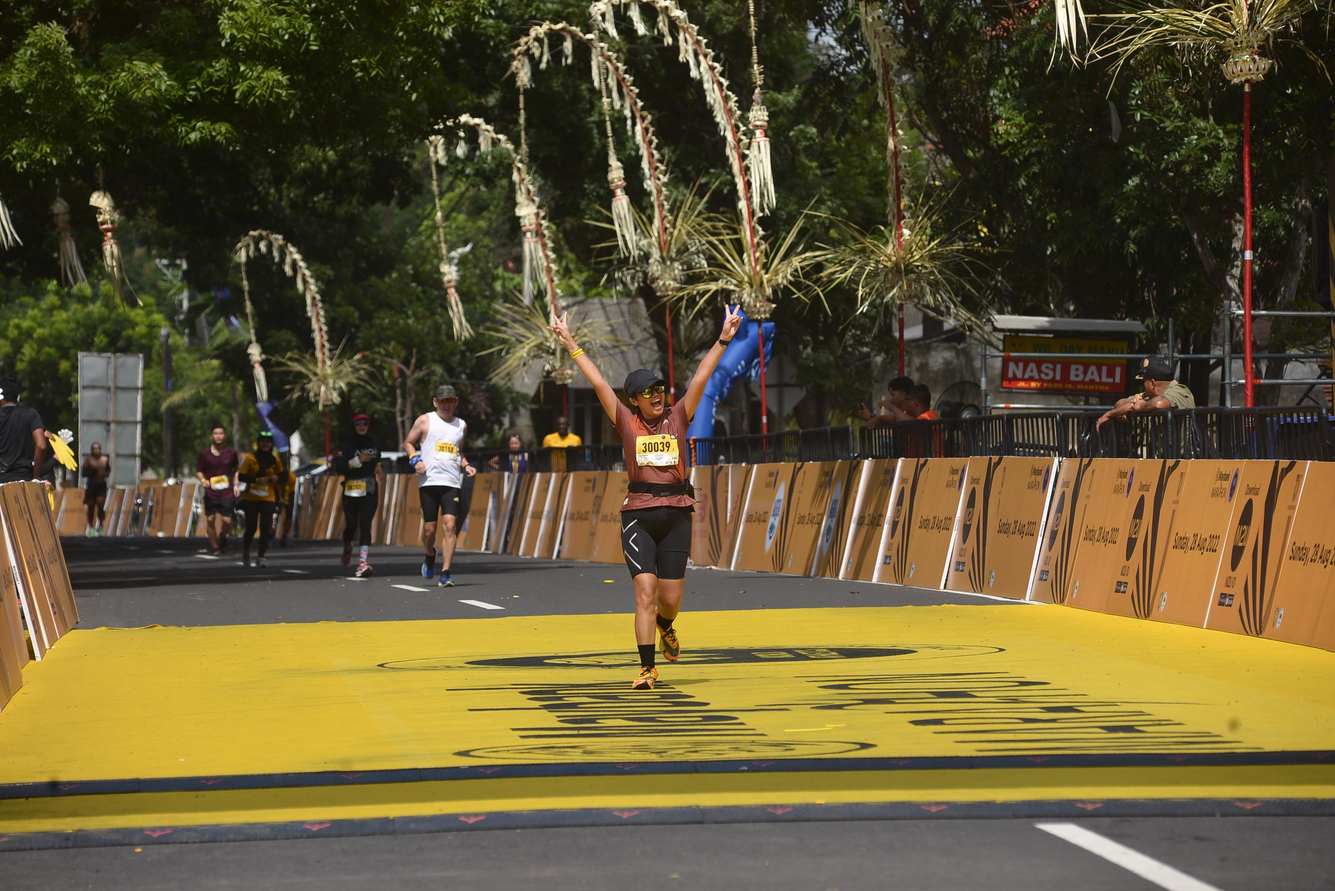bib: (636, 435, 679, 465), (435, 442, 458, 460), (345, 480, 366, 497), (210, 476, 229, 490)
